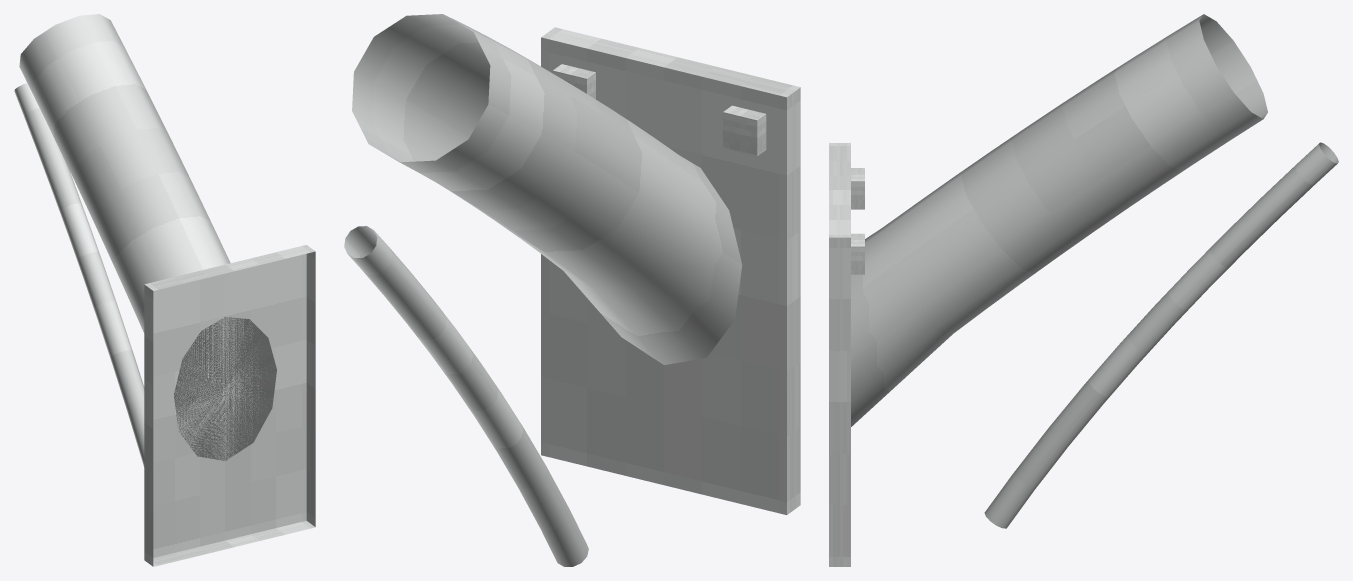
Rendered from luminairearm_laupsweep10ft_c0_wall.obj.
3 renders of one model, left to right at view 1: azimuth 30°, elevation 25°; view 2: azimuth 150°, elevation 25°; view 3: azimuth 270°, elevation 25°, orthographic. The views are drawn at different scales.
Parts seen in each view (by area): view 1: luminairearm_laupsweep10ft_c0_wall; view 2: luminairearm_laupsweep10ft_c0_wall; view 3: luminairearm_laupsweep10ft_c0_wall.
Part boxes in pixels (bbox=[...]): luminairearm_laupsweep10ft_c0_wall: bbox=[14, 14, 315, 566]; luminairearm_laupsweep10ft_c0_wall: bbox=[344, 14, 800, 566]; luminairearm_laupsweep10ft_c0_wall: bbox=[829, 14, 1338, 566].
Bounding box in the file's own units: 0.4474 × 1.12 × 1.02.
